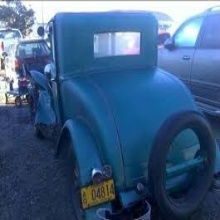no damage: (30, 11, 218, 219), (157, 16, 219, 103), (4, 40, 53, 83)
